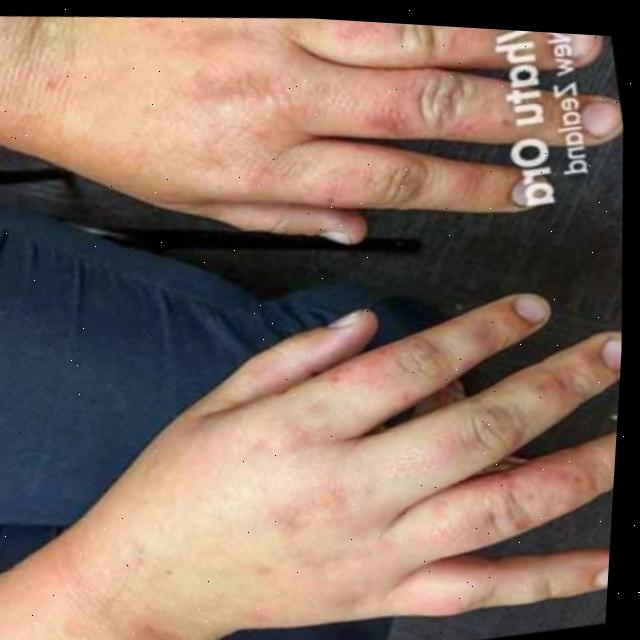Eczema: (254, 347, 605, 605), (119, 8, 498, 233)
